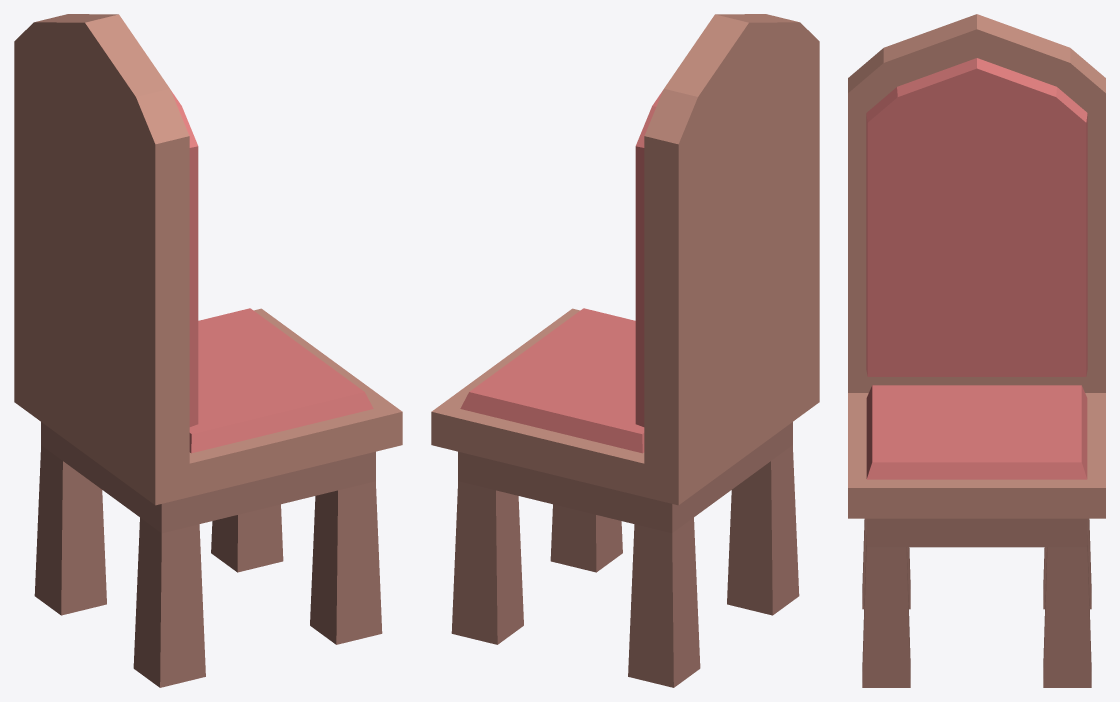
The model's file is ChairCushioned.glb.
3 views of the same model, side by side, from view 1: azimuth 30°, elevation 25°; view 2: azimuth 150°, elevation 25°; view 3: azimuth 270°, elevation 25° (orthographic). The views are drawn at different scales.
Parts seen in each view (by area): view 1: Wood.013, DarkWood.011, Red; view 2: Wood.013, DarkWood.011, Red; view 3: Red, Wood.013, DarkWood.011.
Boxes of the visible parts, x1,y1,x2,y2 form: Wood.013: [14, 14, 402, 505]; DarkWood.011: [34, 422, 382, 687]; Red: [170, 90, 373, 453]; Wood.013: [431, 14, 819, 505]; DarkWood.011: [451, 422, 799, 687]; Red: [460, 90, 663, 453]; Red: [866, 58, 1087, 479]; Wood.013: [848, 14, 1105, 518]; DarkWood.011: [862, 518, 1091, 687].
Size of the model in its own units: 0.4379 by 1.05 by 0.4326.
